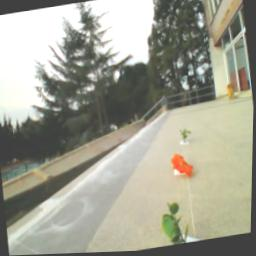herb: (160, 199, 193, 248), (179, 128, 193, 145)
wild: (170, 152, 197, 183)
